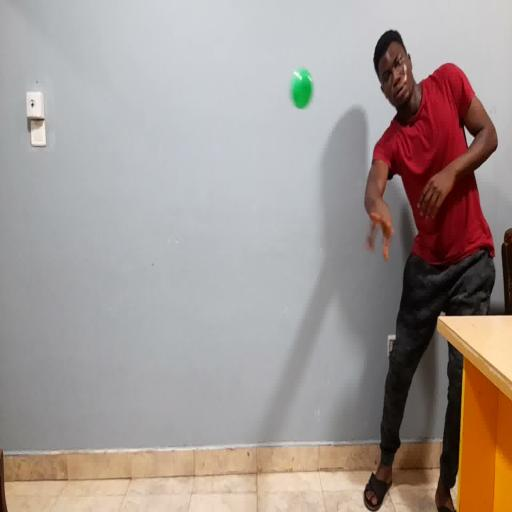plastic-ball: (291, 69, 313, 108)
